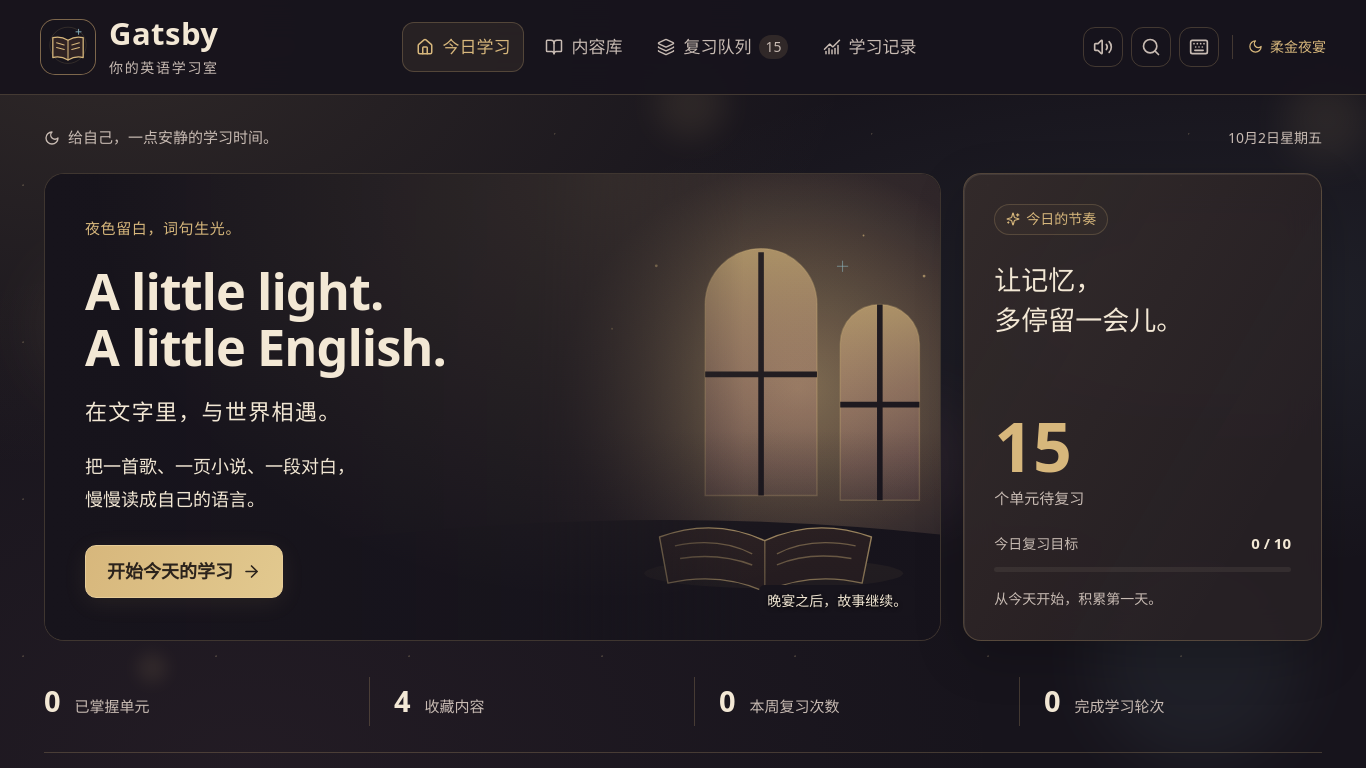
Test case: does not show success or advance the learning state when persistence fails
Click the button "开始今天的学习". click: [184, 572]
box: [85,545,283,598]
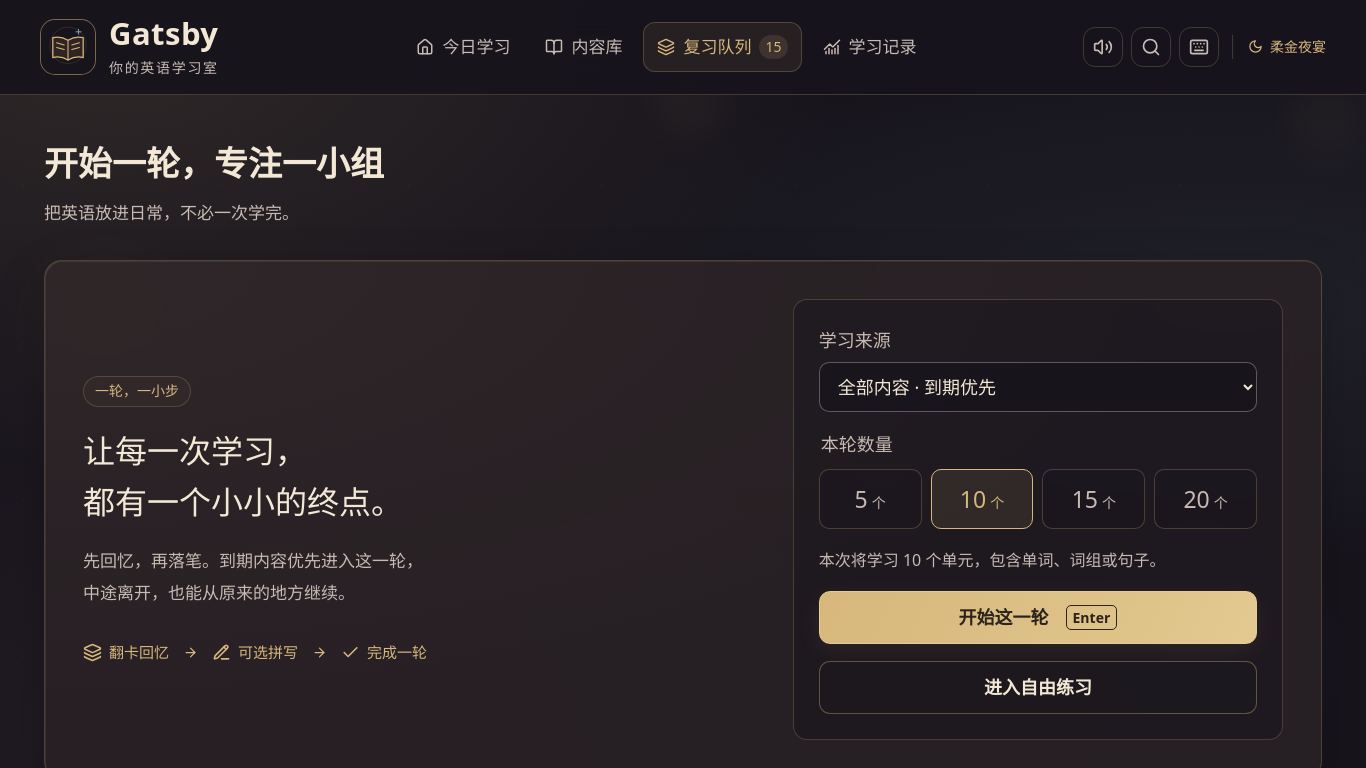
Click the button "开始这一轮 Enter". click: [1038, 618]
box: [819,591,1257,644]
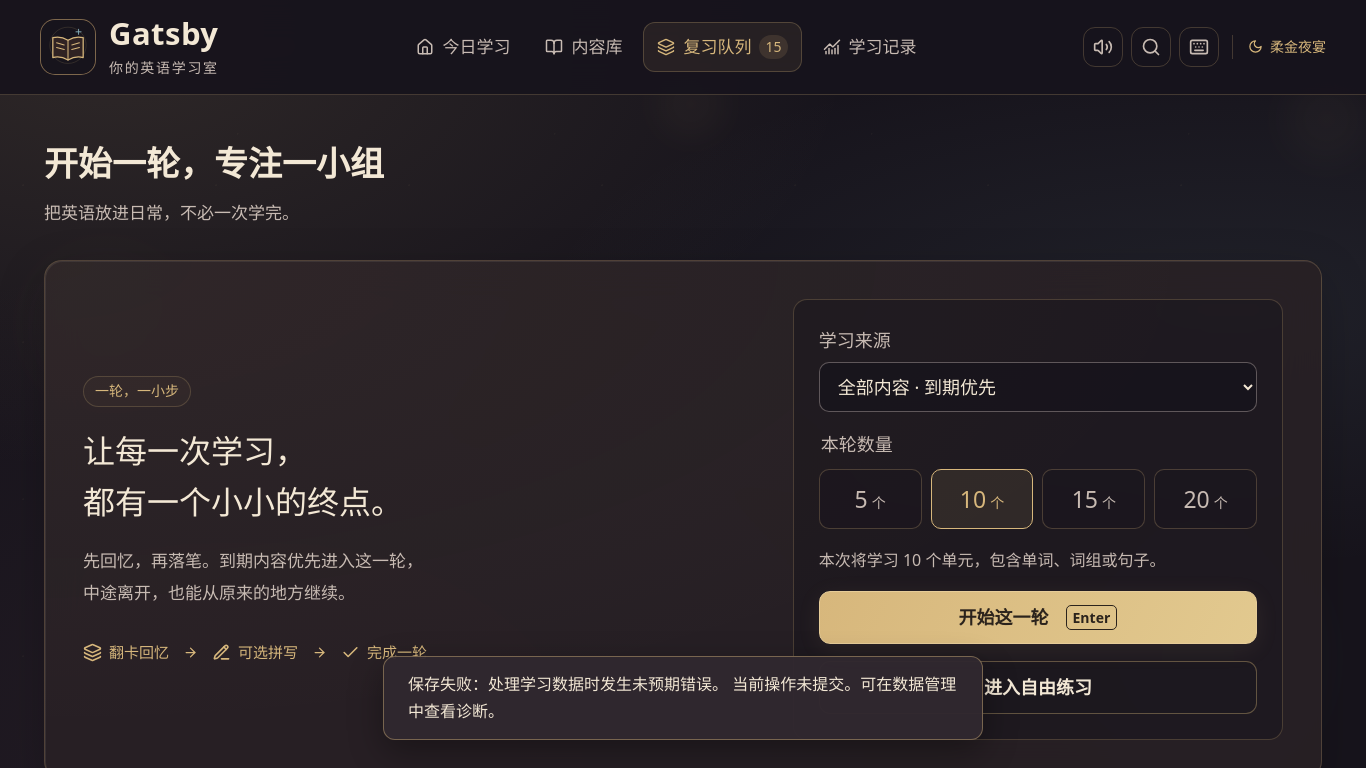
Check: the message shows "保存失败", box [408,673,956,722]
